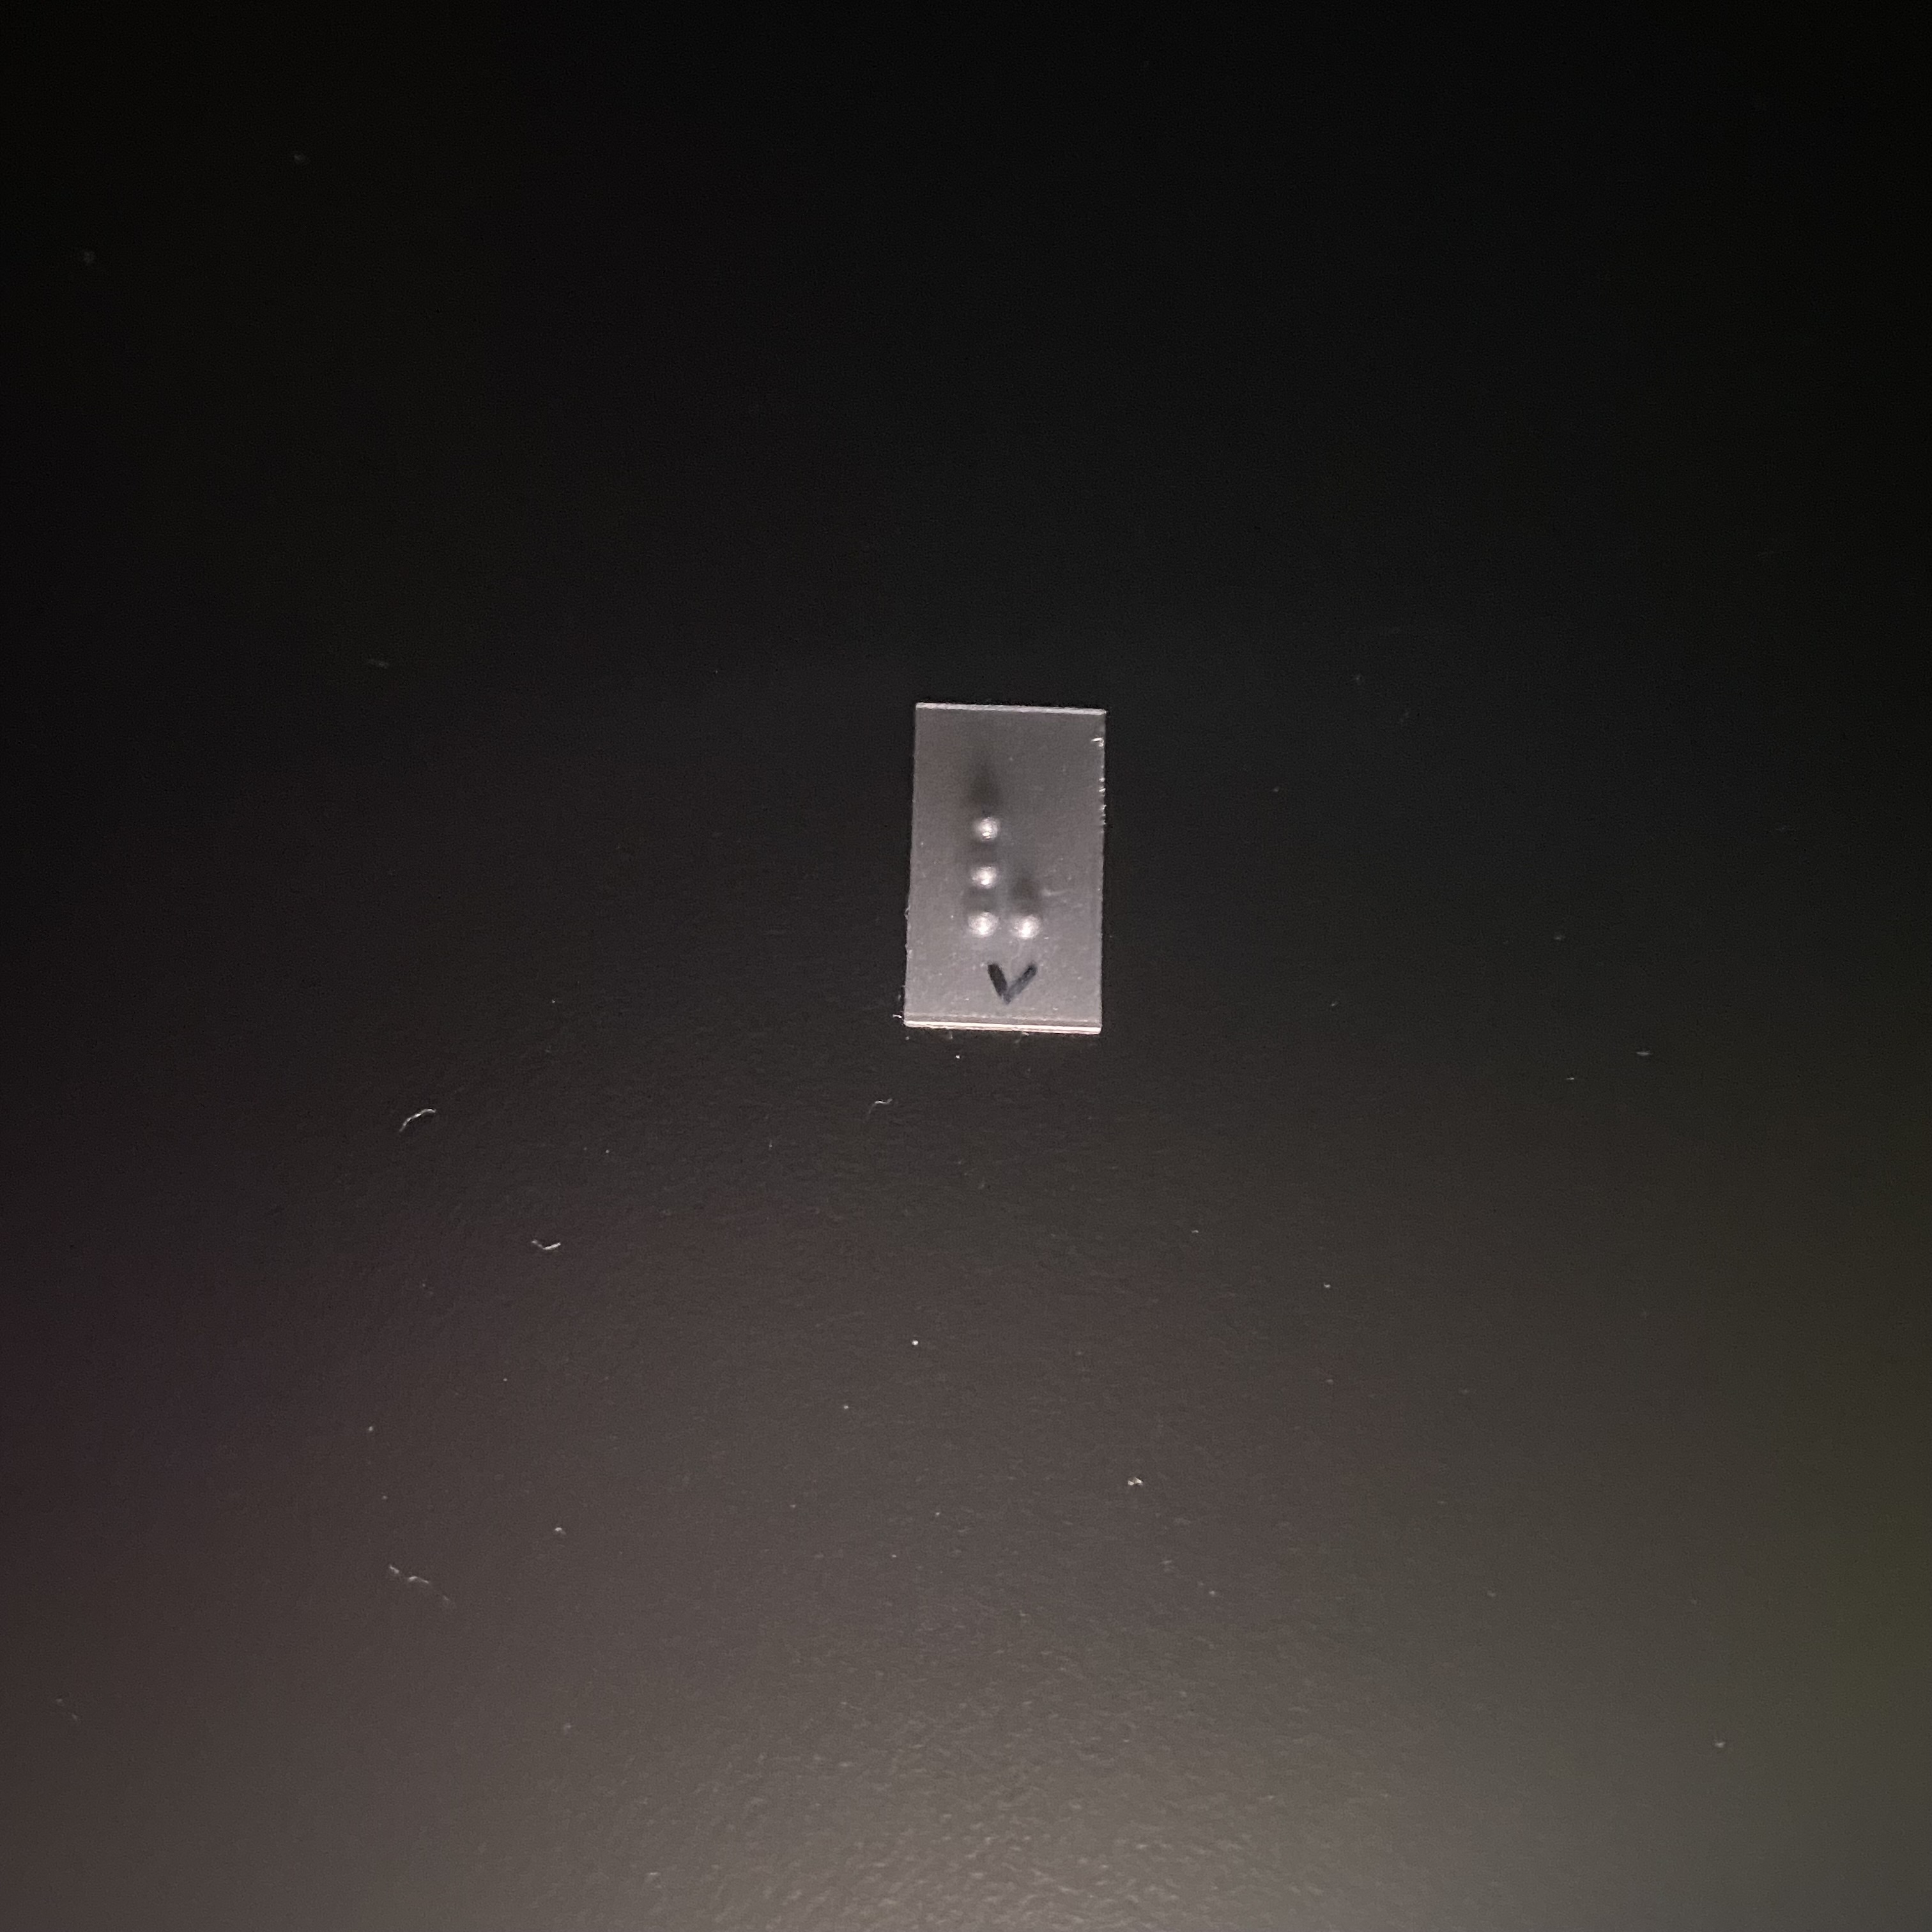v: (950, 764, 1058, 945)
